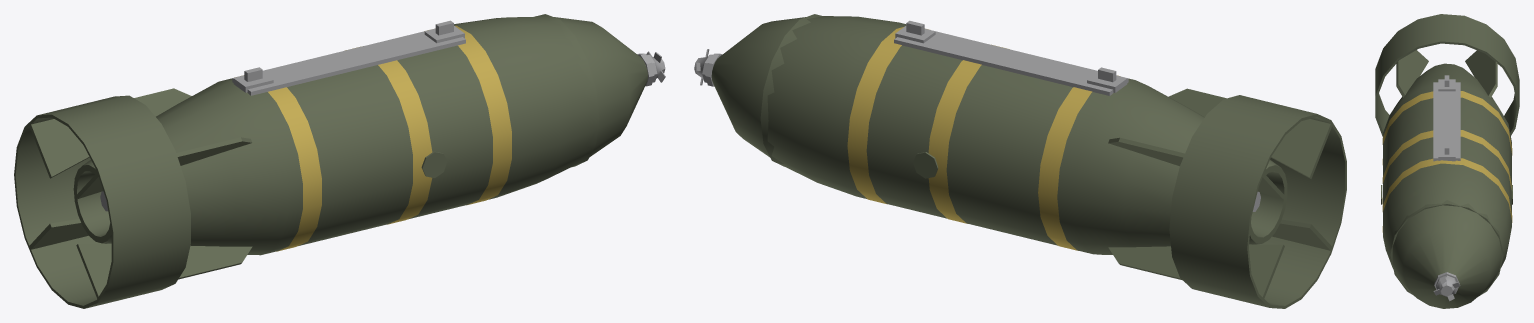
The model's file is bombs_5.glb.
The picture shows the model from 3 angles, left to right: view 1: azimuth 30°, elevation 25°; view 2: azimuth 150°, elevation 25°; view 3: azimuth 270°, elevation 25°; orthographic projection. The views are drawn at different scales.
Visible parts, largest first — view 1: bombs_5; view 2: bombs_5; view 3: bombs_5.
Boxes of the visible parts, x1=… form: bombs_5: x1=14, y1=14, x2=665, y2=308; bombs_5: x1=694, y1=14, x2=1346, y2=308; bombs_5: x1=1375, y1=14, x2=1519, y2=308.
Bounding box in the file's own units: 1 × 0.2961 × 0.2879.
